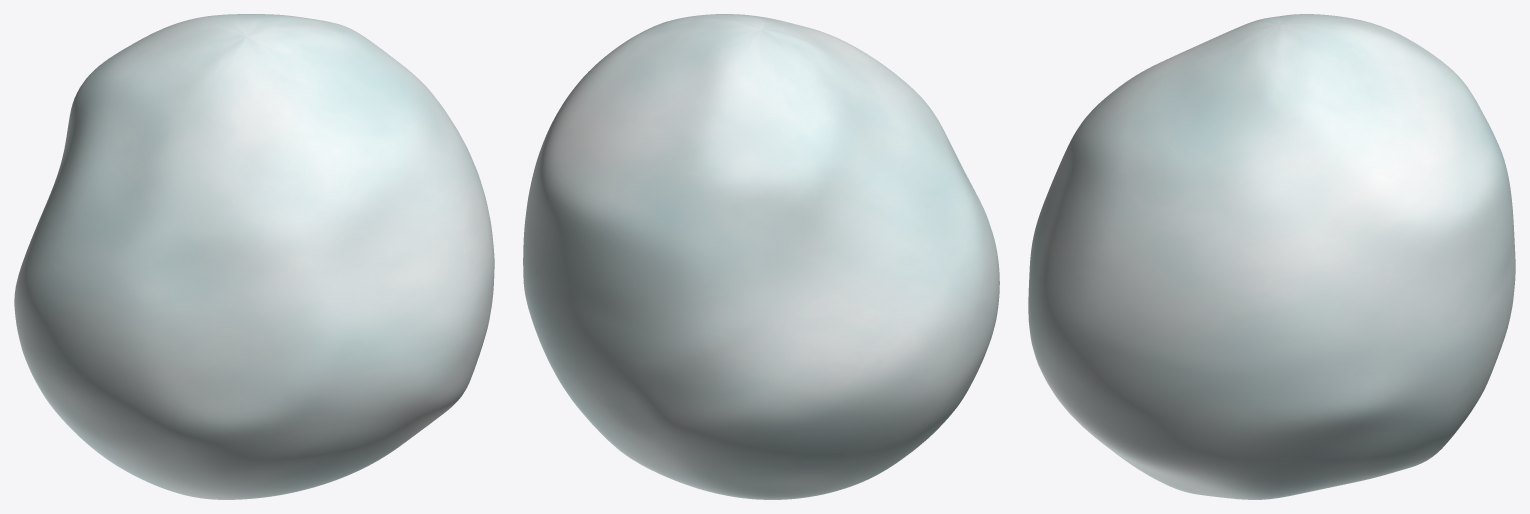
File: snowBall.glb
3 views of the same model, side by side, from view 1: azimuth 30°, elevation 25°; view 2: azimuth 150°, elevation 25°; view 3: azimuth 270°, elevation 25° (orthographic). The views are drawn at different scales.
Parts seen in each view (by area): view 1: snowBall; view 2: snowBall; view 3: snowBall.
Boxes of the visible parts, x1,y1,x2,y2 form: snowBall: (14,14,494,499); snowBall: (523,14,999,499); snowBall: (1028,14,1515,499).
Size of the model in its own units: 0.3418 by 0.3359 by 0.3268.
1 material, 1 textured.
